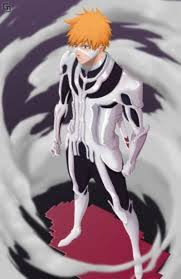Ichigo: (66, 10, 112, 64)
